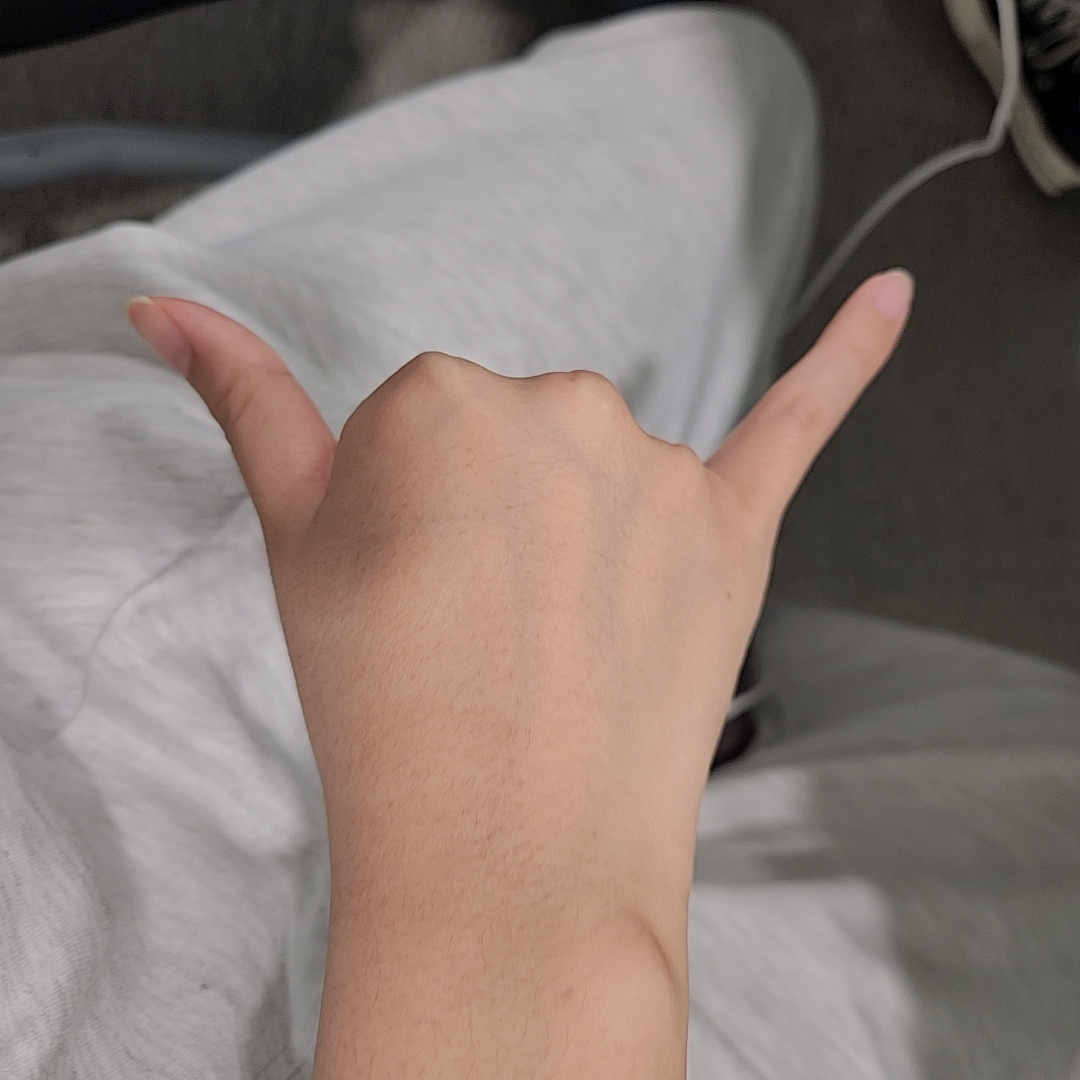call: (126, 266, 914, 799)
